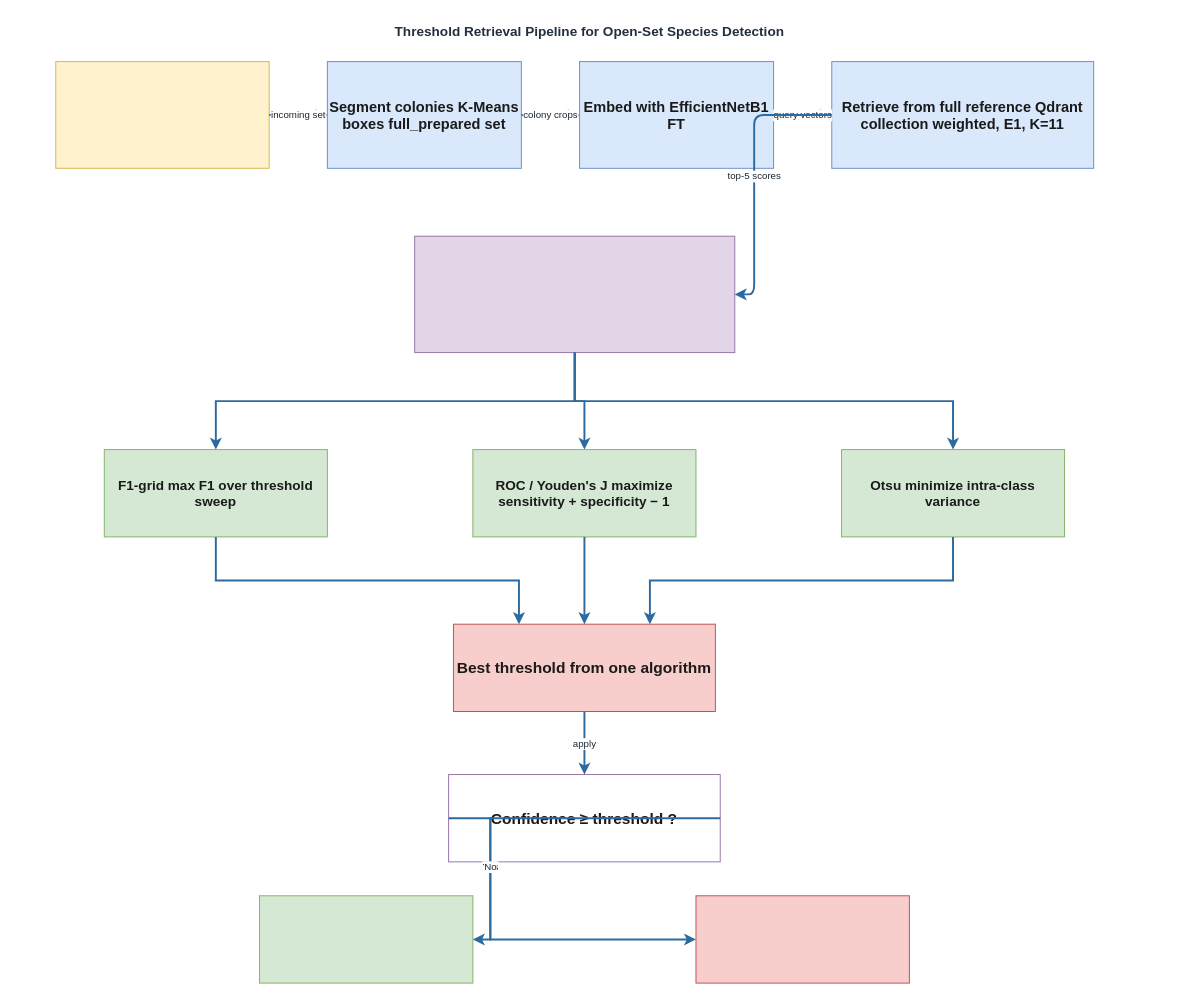
This 1178x1000 diagram has some shape labels left out. The shapes that lost their labels are listed below. From the top down, each one's centre as x and y in pixels, then its label:
the point at 162,114: Incoming diverse strains 6 query sets per strain (3 segments × 2 angles)
the point at 574,294: Threshold formula map top-5 aggregated scores (s0, s1, s2, s3, s4) → confidence
the point at 366,939: Known species accept top-1 retrieval label
the point at 802,939: Unknown species reject as foreign
